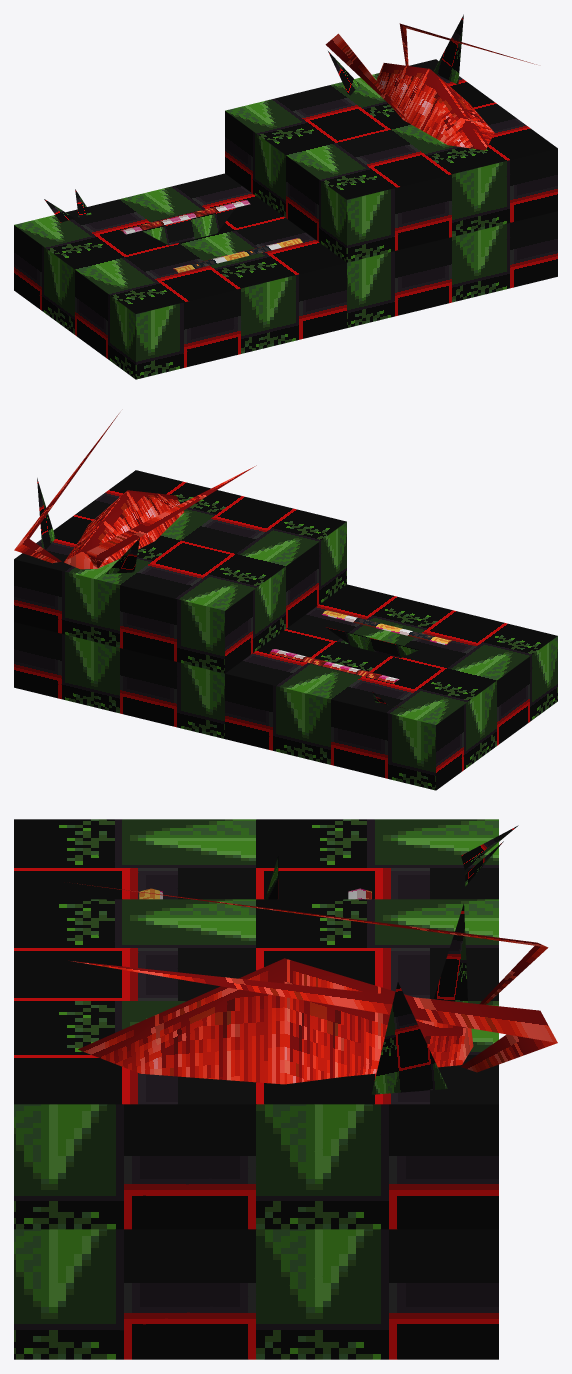
The model's file is 3266IMIG03_05.gltf.
The picture shows the model from 3 angles, top to bottom: view 1: azimuth 30°, elevation 25°; view 2: azimuth 150°, elevation 25°; view 3: azimuth 270°, elevation 25°; orthographic projection. The views are drawn at different scales.
Visible parts, largest first — view 1: 3266IMIG03_05; view 2: 3266IMIG03_05; view 3: 3266IMIG03_05.
Boxes of the visible parts, left/top/right/bottom form: 3266IMIG03_05: left=14, top=14, right=557, bottom=379; 3266IMIG03_05: left=14, top=413, right=557, bottom=790; 3266IMIG03_05: left=14, top=819, right=557, bottom=1359.
Bounding box in the file's own units: 0.907 × 0.4087 × 0.5061.
Materials: 4 (4 with a texture image).
